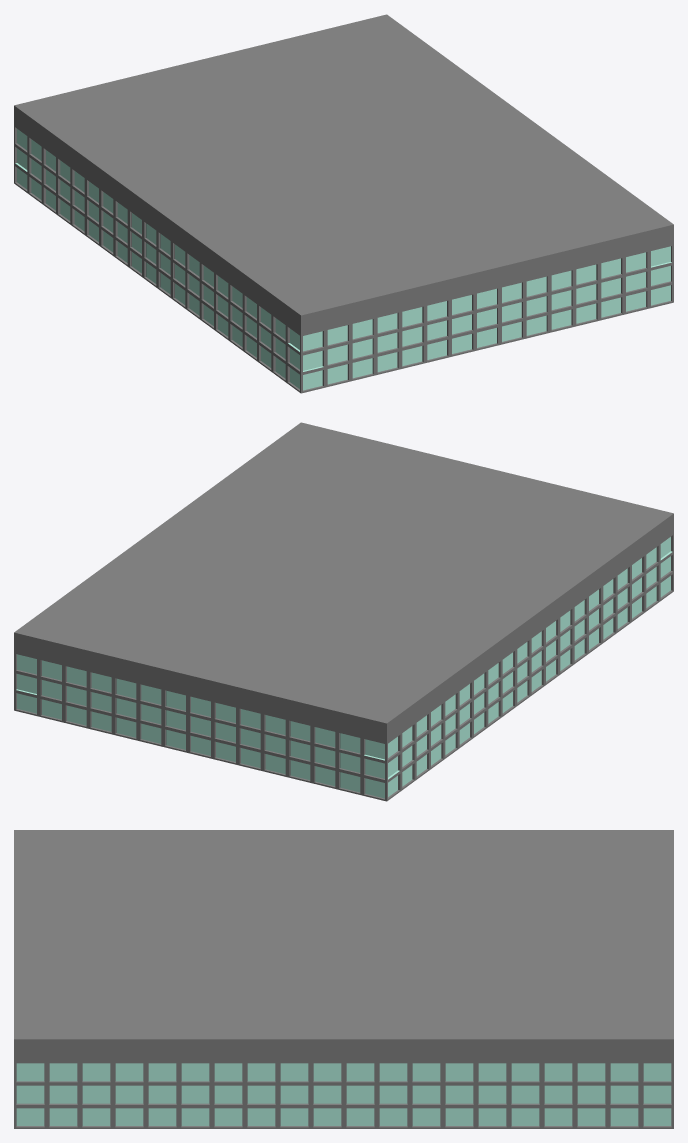
Rendered from conventioncenter.fbx.
3 views of the same model, one above another, from view 1: azimuth 30°, elevation 25°; view 2: azimuth 150°, elevation 25°; view 3: azimuth 270°, elevation 25° (orthographic). The views are drawn at different scales.
Parts seen in each view (by area): view 1: Cube; view 2: Cube; view 3: Cube.
Boxes of the visible parts, left/top/right/bottom form: Cube: left=14, top=14, right=673, bottom=393; Cube: left=14, top=422, right=673, bottom=801; Cube: left=14, top=830, right=673, bottom=1128.
Size of the model in its own units: 15000 by 3000 by 20000.
